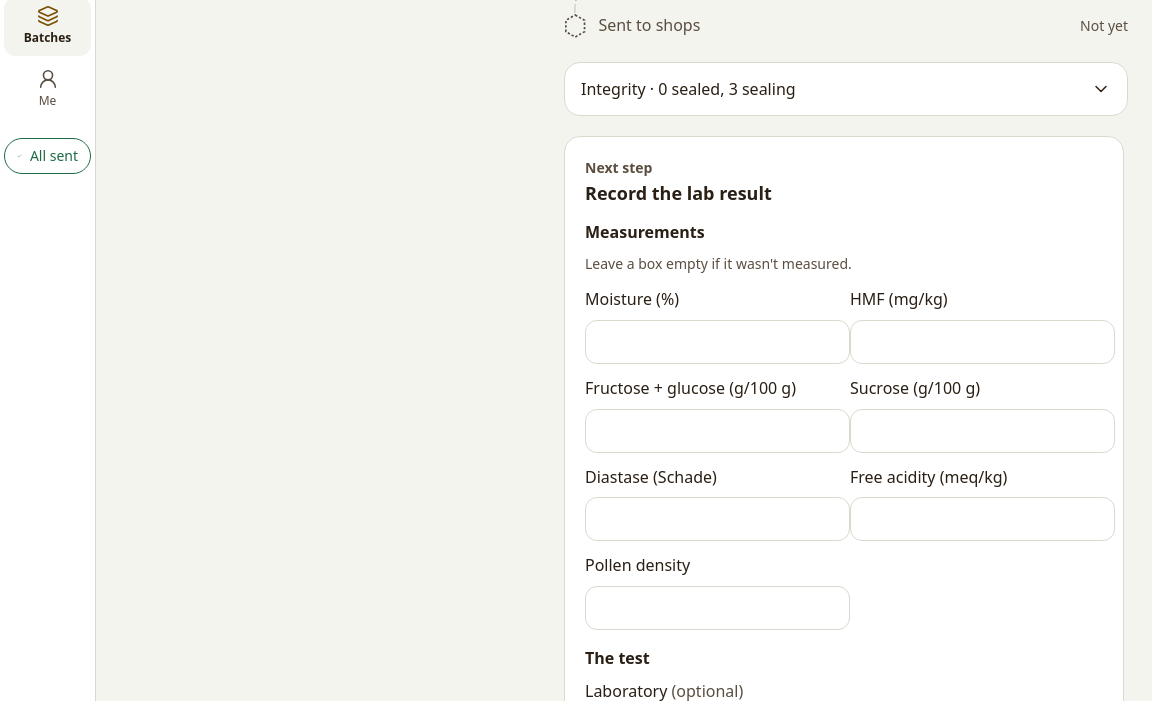
Test: The lab result › refuses a value the server would refuse, before saving
(page scrolled)
Type "118" into the field labelled "Moisture (%)" at (718, 342), box [585,320,850,364]
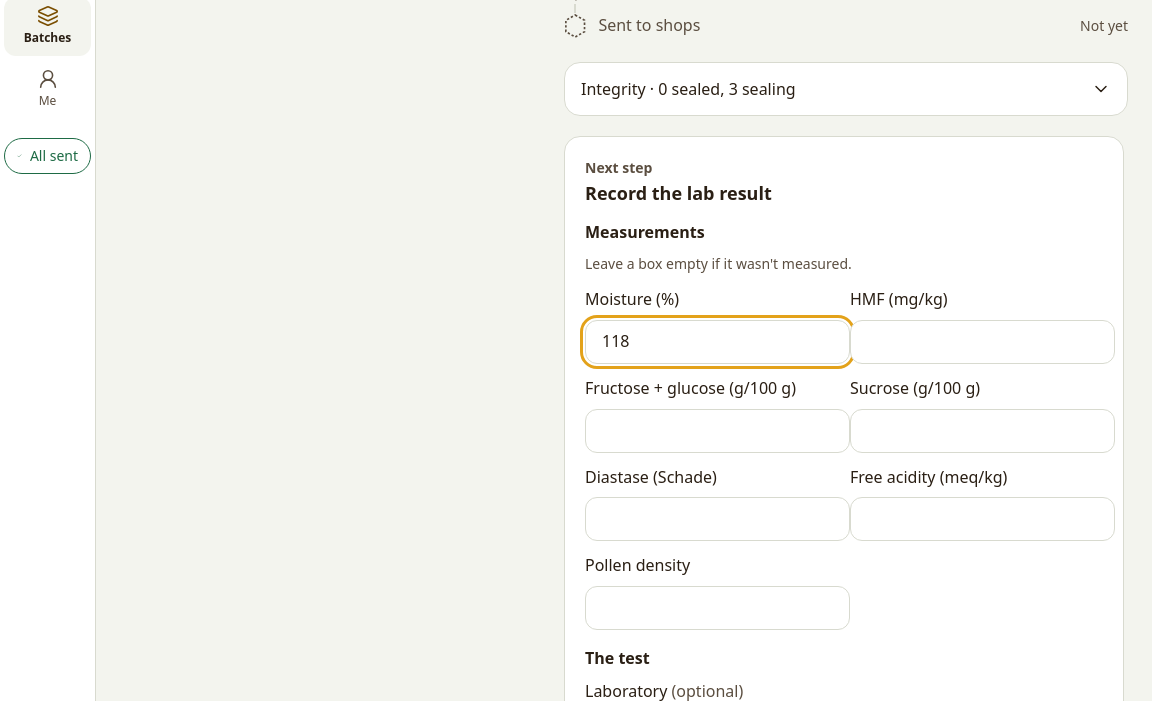
Type "22.125" into the field labelled "HMF (mg/kg)" at (982, 342), box [850,320,1115,364]
(page scrolled)
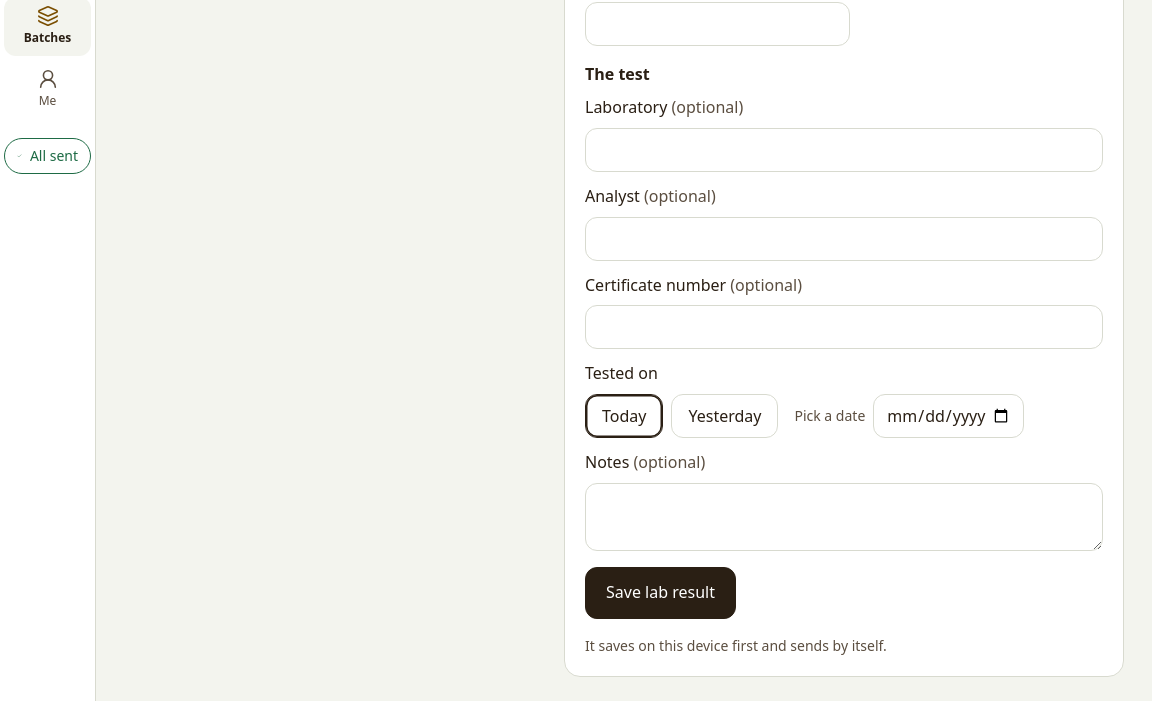
Click the button "Save lab result" at (660, 592), box [585,566,736,618]
(page scrolled)
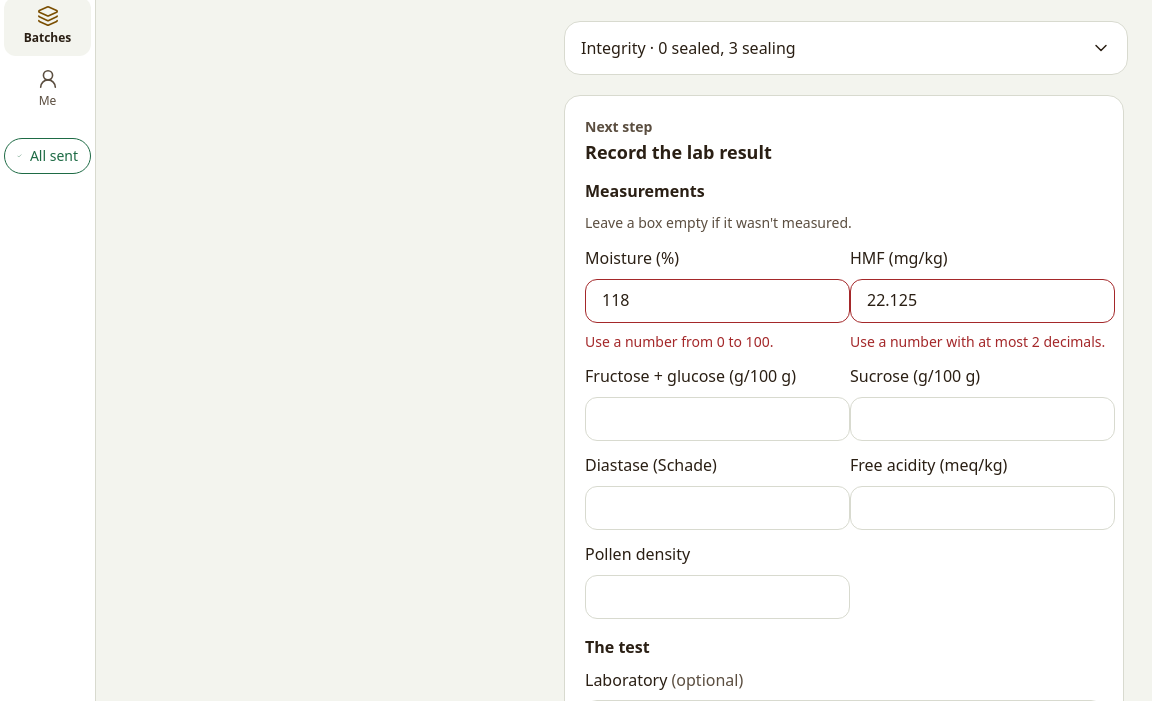
Expected: the text "Use a number from 0 to 100." is shown, [585,332,773,351]
Expected: the text "Use a number with at most 2 decimals." is shown, [850,331,1115,352]
